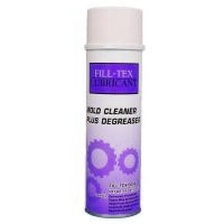aerosol_cans: (79, 3, 147, 221)
